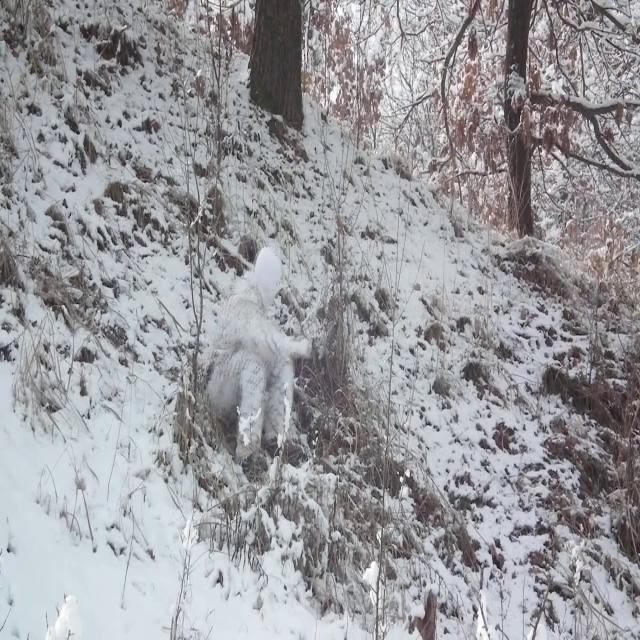Camouflage: (206, 250, 309, 479)
